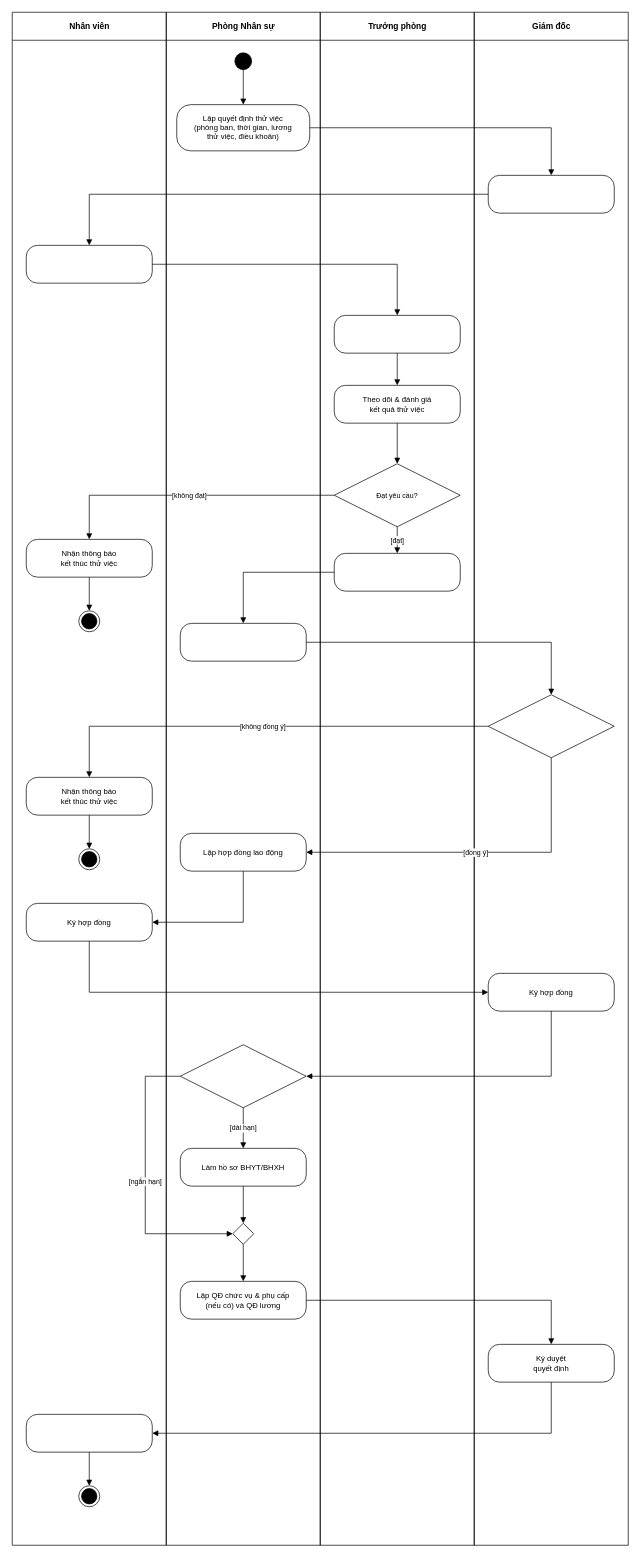
This 641x1558 diagram has some shape labels left out. The centre of each missing label's shape, as x and y in pixels:
"Gửi kết quả đánh giá về Phòng Nhân sự" belongs at pixel 397 572.
"Ký duyệt quyết định thử việc" belongs at pixel 551 194.
"Loại hợp đồng?" belongs at pixel 243 1076.
"Nhận hợp đồng & quyết định chính thức" belongs at pixel 89 1433.
"Nhận quyết định & bắt đầu thử việc" belongs at pixel 89 264.
"Phân công & hướng dẫn công việc thử việc" belongs at pixel 397 334.
"Đề xuất nhận chính thức" belongs at pixel 243 642.
"Đồng ý nhận chính thức?" belongs at pixel 551 726.
